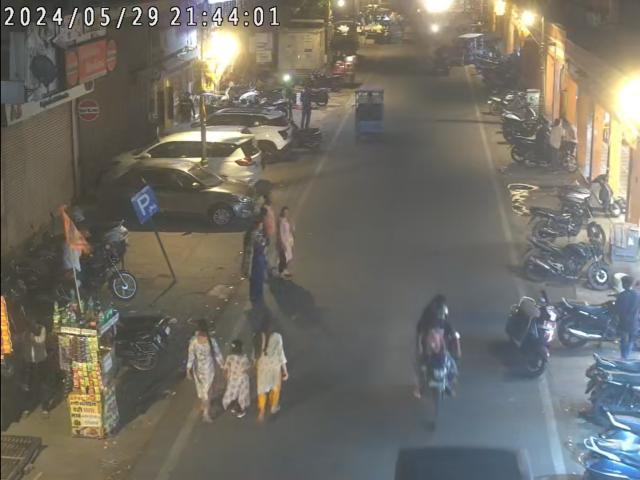car: (111, 164, 253, 226)
helmet: (428, 304, 450, 324)
motorbike: (522, 237, 616, 291), (557, 292, 626, 352), (529, 202, 605, 247)
motorbike-rider: (417, 294, 460, 433)
person: (187, 319, 220, 425), (255, 320, 290, 416), (219, 339, 249, 418), (246, 216, 270, 303), (616, 272, 640, 352), (275, 200, 295, 280)
scooty: (506, 284, 560, 376), (562, 172, 617, 216)
